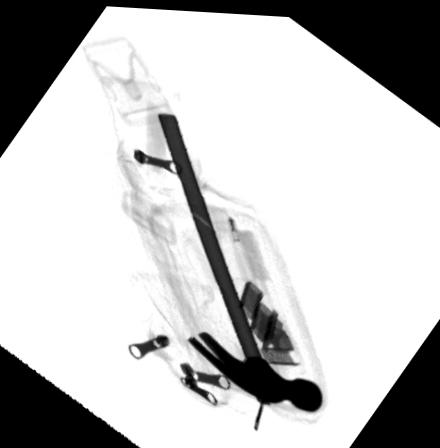Hammer: (156, 110, 323, 409)
